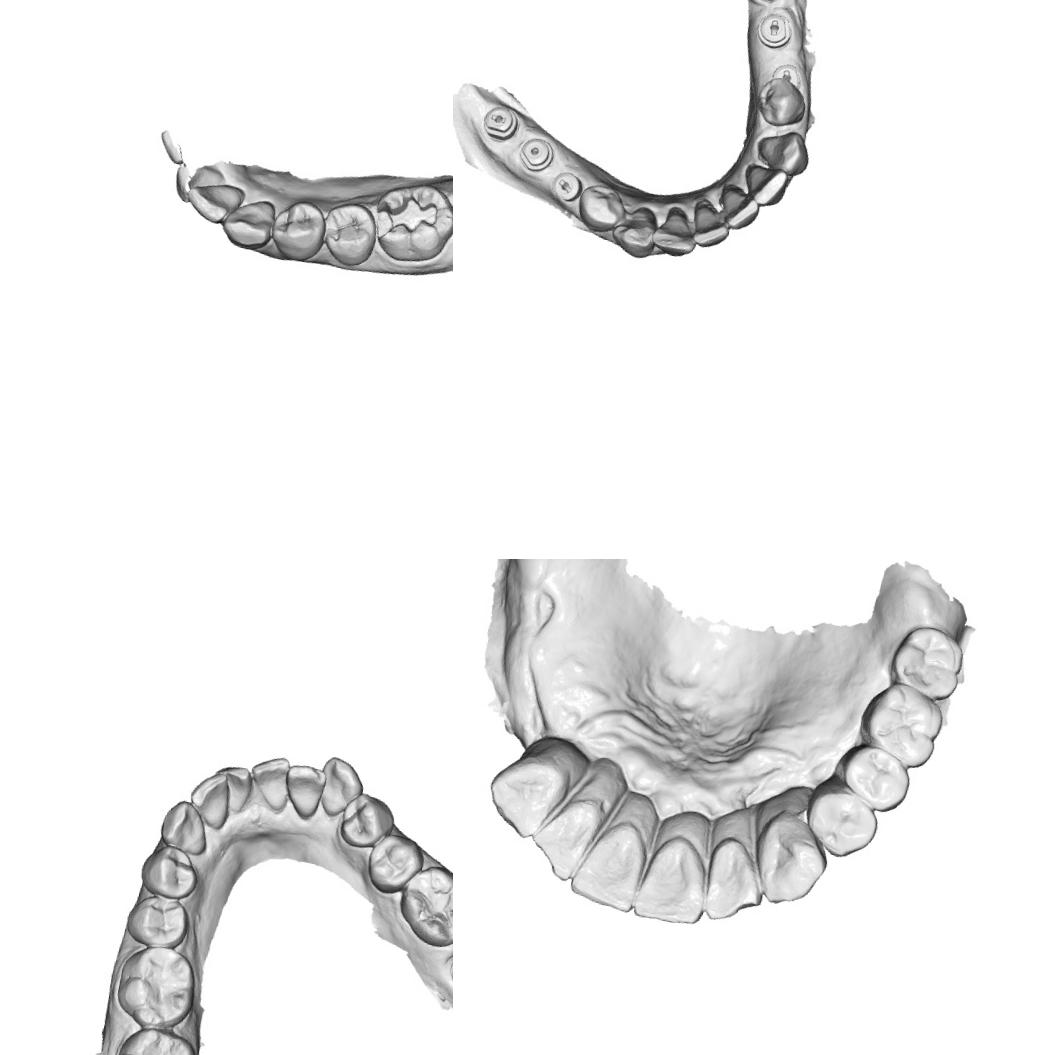canine: (476, 742, 574, 846), (748, 805, 838, 912), (312, 752, 367, 822), (750, 124, 815, 178), (606, 200, 662, 260), (216, 198, 275, 254), (157, 795, 211, 852)
implant: (516, 132, 557, 175)
implant_minus: (751, 5, 797, 52), (478, 100, 522, 143), (548, 167, 586, 205), (769, 58, 804, 87)
incisor: (628, 824, 718, 932), (562, 808, 652, 916), (522, 785, 610, 890), (700, 830, 772, 928), (243, 749, 294, 810), (277, 761, 327, 820), (182, 176, 238, 228), (647, 206, 700, 260), (181, 766, 233, 821), (712, 183, 764, 233), (738, 161, 790, 210), (686, 200, 734, 252), (212, 760, 254, 816), (167, 156, 210, 204)
inlay: (369, 185, 442, 256)
molar: (851, 678, 949, 774), (109, 942, 202, 1034), (883, 618, 968, 706), (393, 860, 453, 954), (104, 1019, 203, 1055)
premolar: (796, 774, 884, 866), (831, 737, 916, 818), (310, 195, 380, 270), (121, 890, 200, 952), (135, 839, 209, 904), (362, 828, 429, 898), (336, 789, 398, 855), (269, 197, 328, 261), (752, 72, 812, 132), (572, 177, 629, 236)
